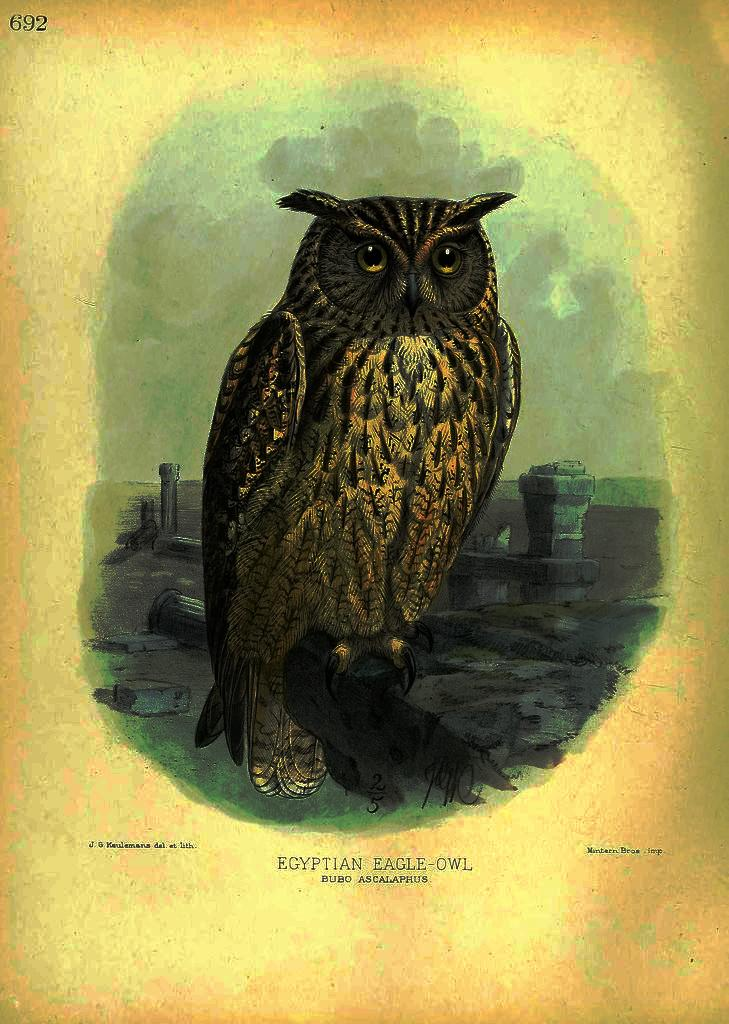Owl: (190, 188, 528, 804)
